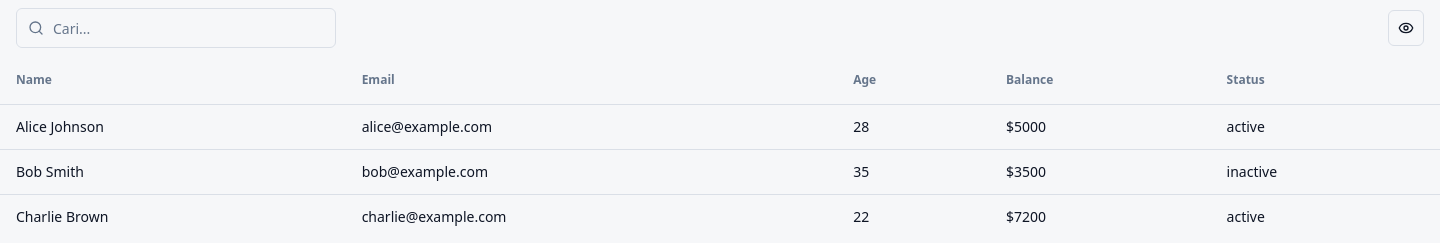
DataTable Component › Filtering/Search › should show empty message when filter returns no results
Type "nonexistent" into the field with placeholder "Cari...".
click(176, 28); type("nonexistent")  # box 16,8 -> 336,48
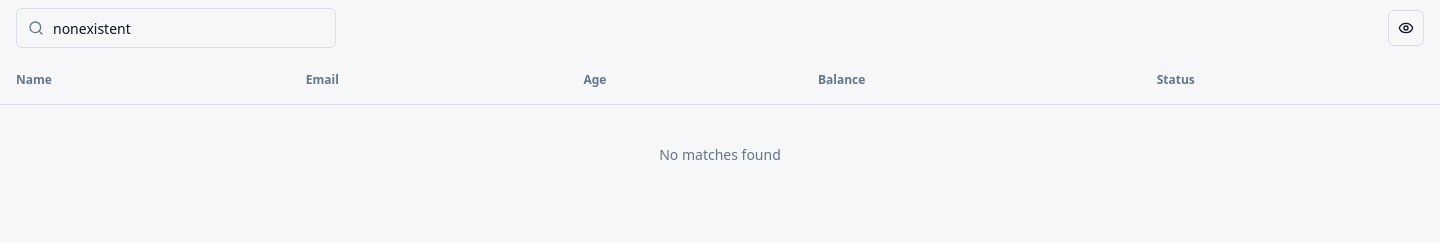
Expected: the text "No matches found" is shown, 0,104 -> 1439,204
